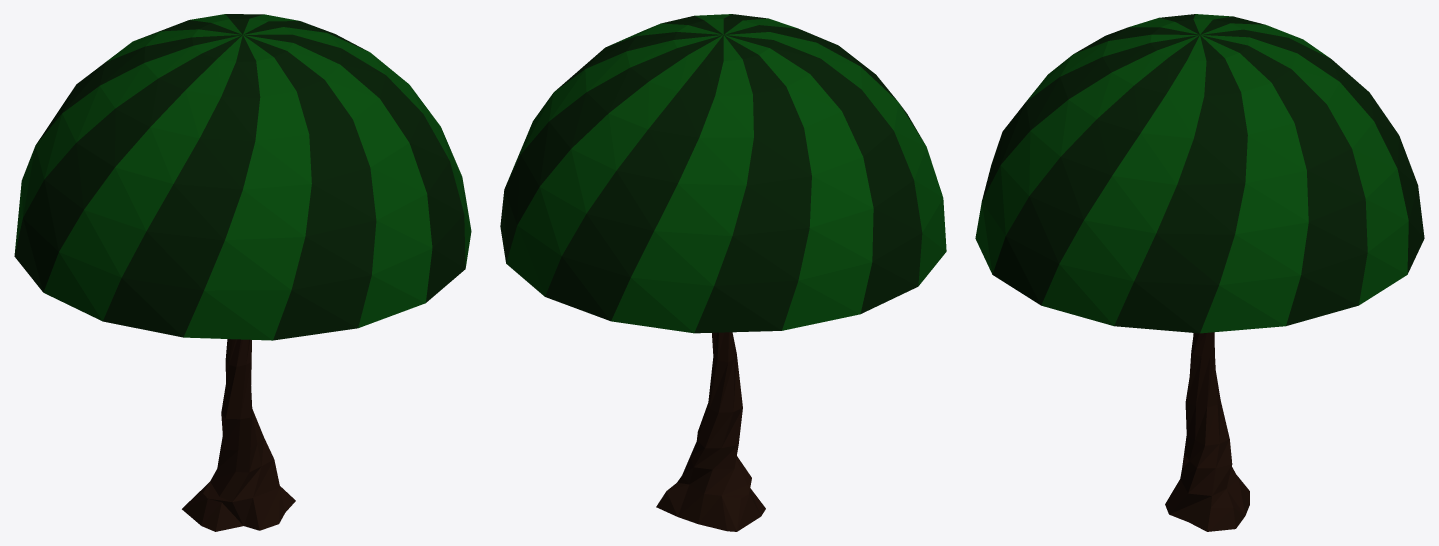
Rendered from Tree01.fbx.
3 renders of one model, left to right at view 1: azimuth 30°, elevation 25°; view 2: azimuth 150°, elevation 25°; view 3: azimuth 270°, elevation 25°, orthographic. The views are drawn at different scales.
Visible parts, largest first — view 1: Crown, Trunk; view 2: Crown, Trunk; view 3: Crown, Trunk.
Part boxes in pixels (box(x1,y1,x2,y2)): Crown: box(14, 14, 471, 340); Trunk: box(182, 339, 295, 531); Crown: box(500, 14, 946, 333); Trunk: box(656, 332, 765, 531); Crown: box(975, 14, 1424, 333); Trunk: box(1165, 332, 1249, 531).
Bounding box in the file's own units: 259 × 299 × 259.
